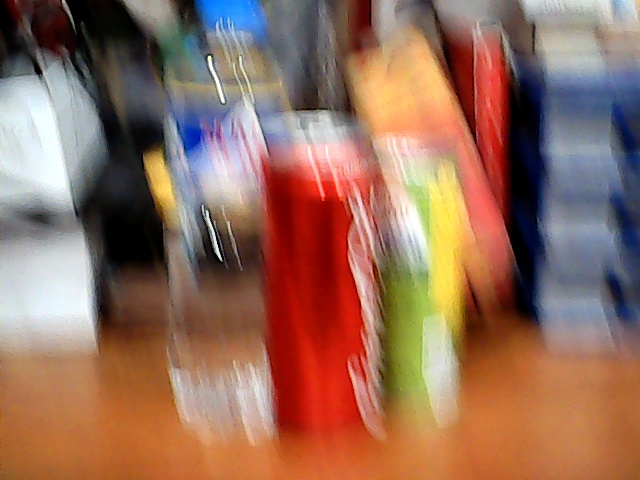Cola: (261, 140, 378, 421)
Pine Juice: (374, 140, 459, 420)
Summit Water: (170, 21, 267, 408)
